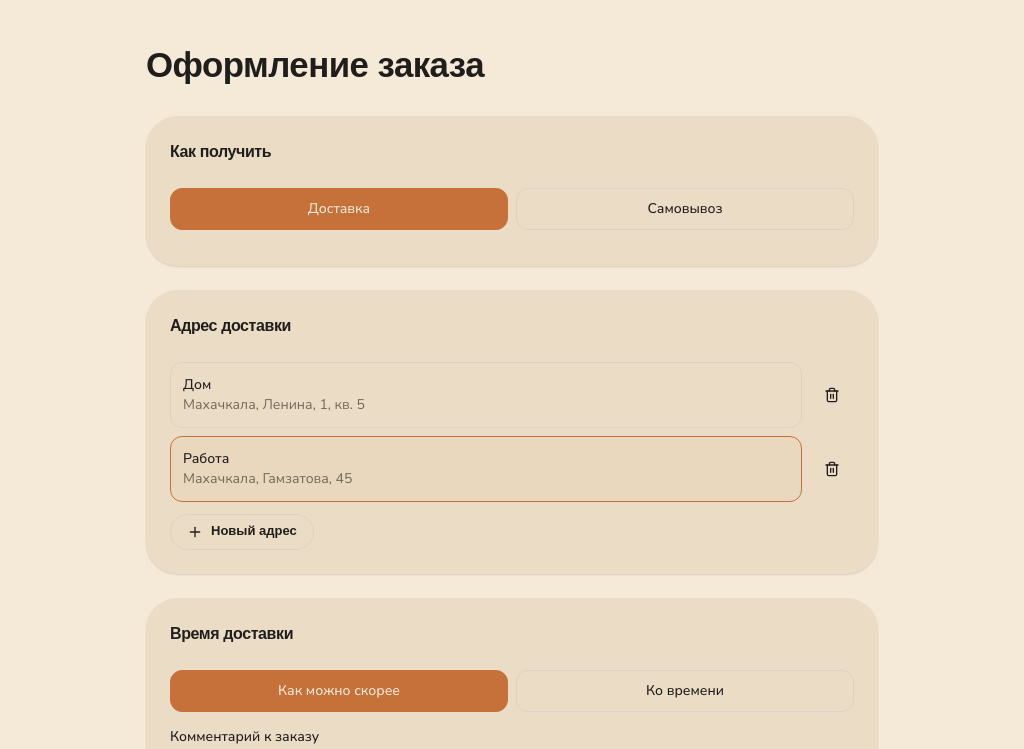
CheckoutPage — delivery time and payment › states the opening hours next to the picker
The width and height of the screenshot is (1024, 749).
Click the button "Ко времени".
click(685, 691)  # box [516,670,854,712]
(page scrolled)
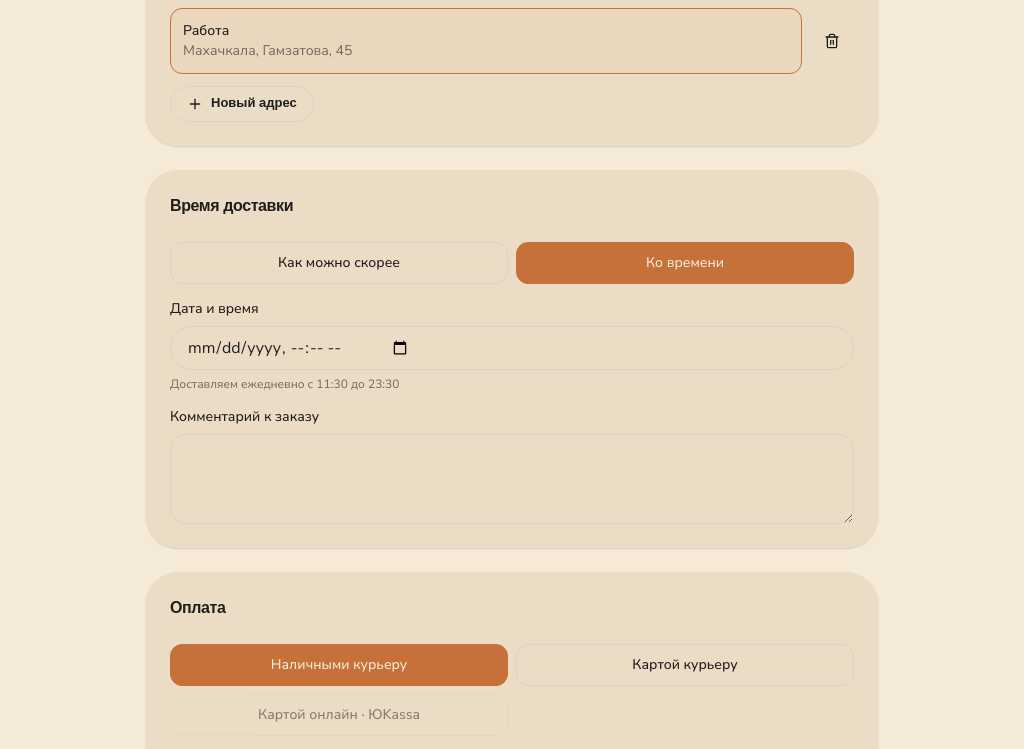
Result: the text "Доставляем ежедневно с 11:30 до 23:30" is shown at [170,376,400,392]
